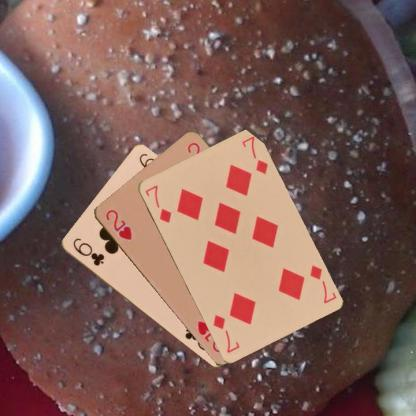2h: (102, 207, 134, 243)
6c: (70, 234, 106, 268)
7d: (142, 182, 173, 224), (307, 262, 337, 305)
